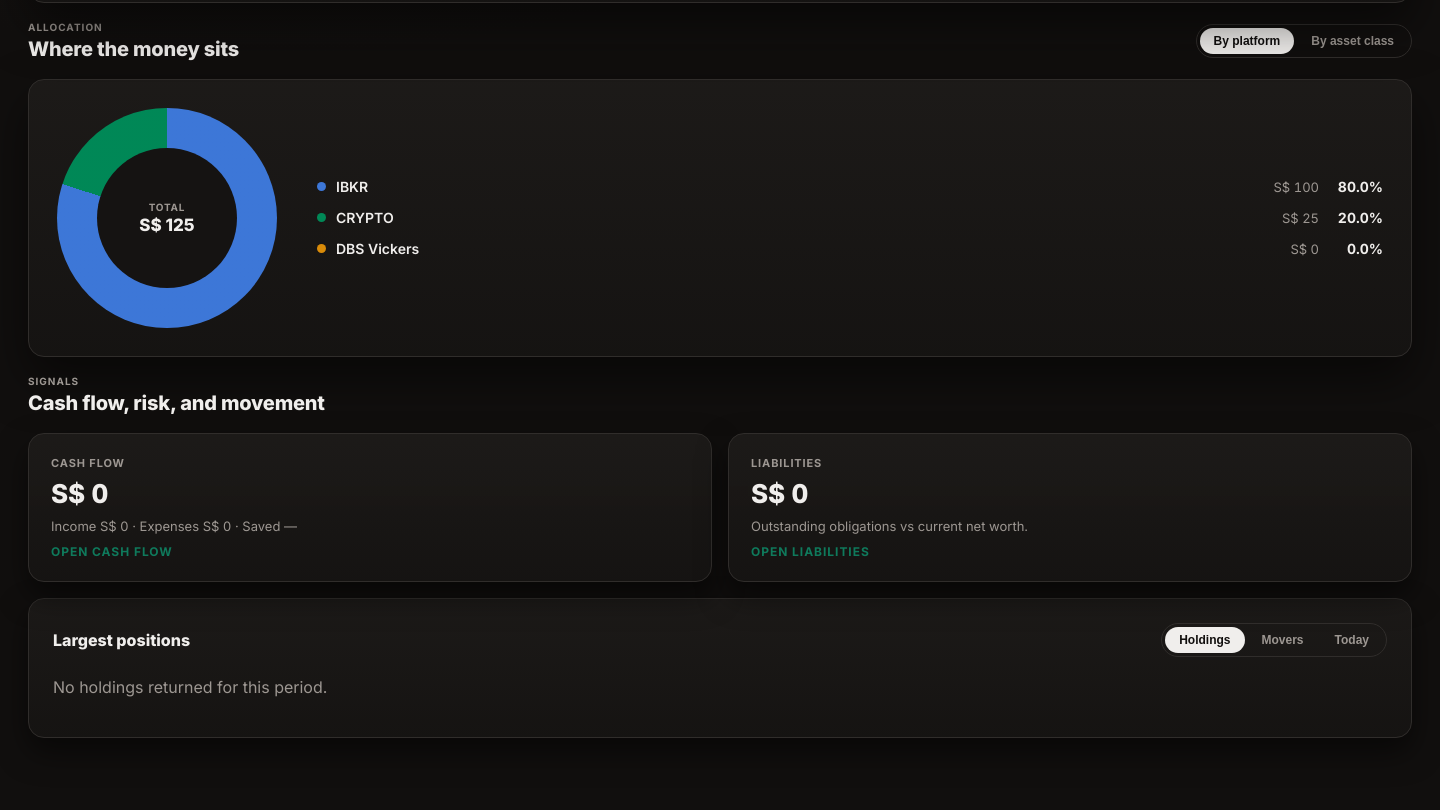
Scenario: WealthOverview › shows today's movers when the Today tab is selected
The width and height of the screenshot is (1440, 810).
(page scrolled)
Expected: the heading "Largest positions" is shown, [53, 630, 190, 650]
Step 1. Click the button "Today" → (1352, 640), box [1320, 627, 1383, 653]
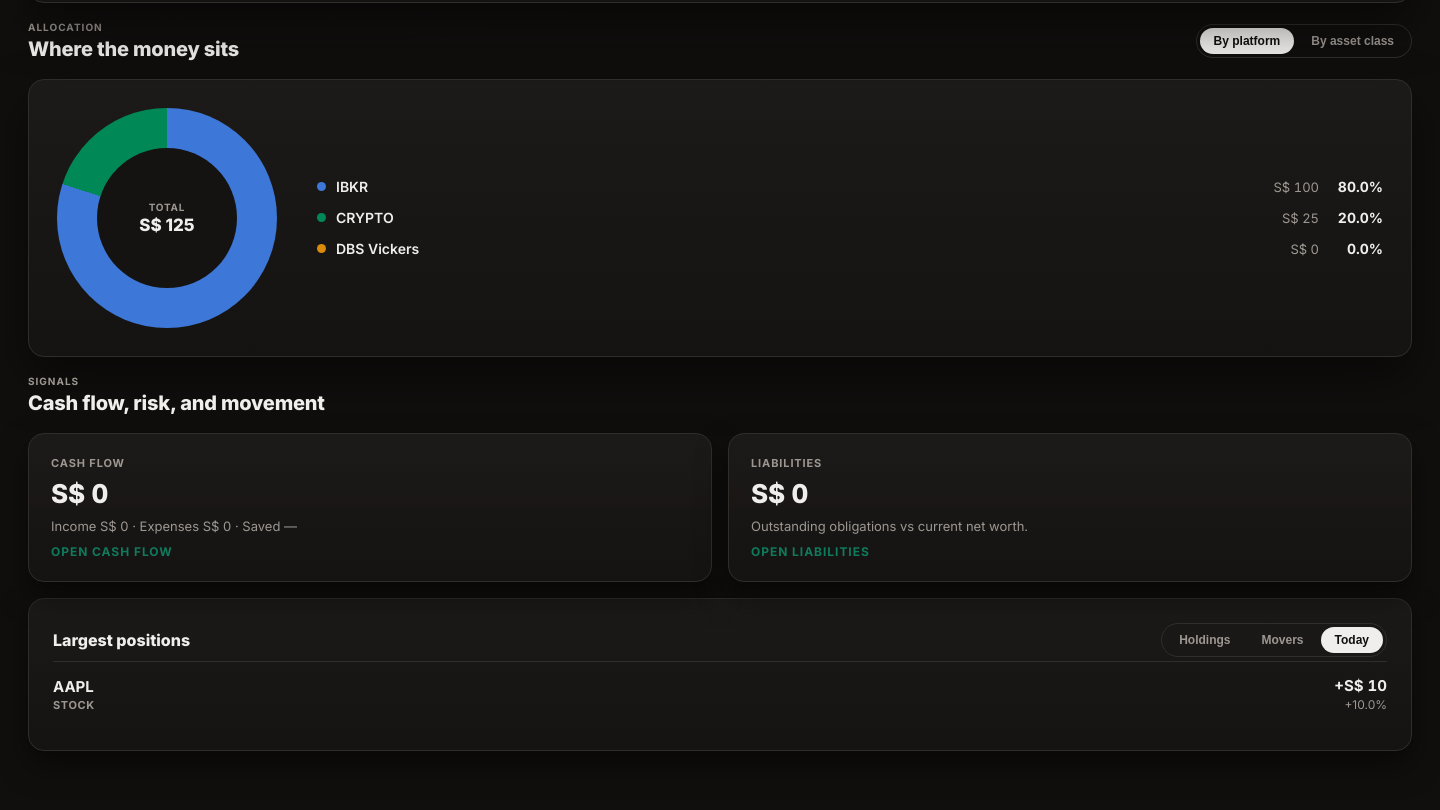
Expected: the text "AAPL" is shown, [53, 677, 95, 696]
Expected: the text "+S$ 10" is shown, [1334, 676, 1387, 695]
